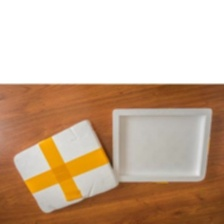foam_box: (9, 114, 122, 216), (107, 104, 215, 187)
